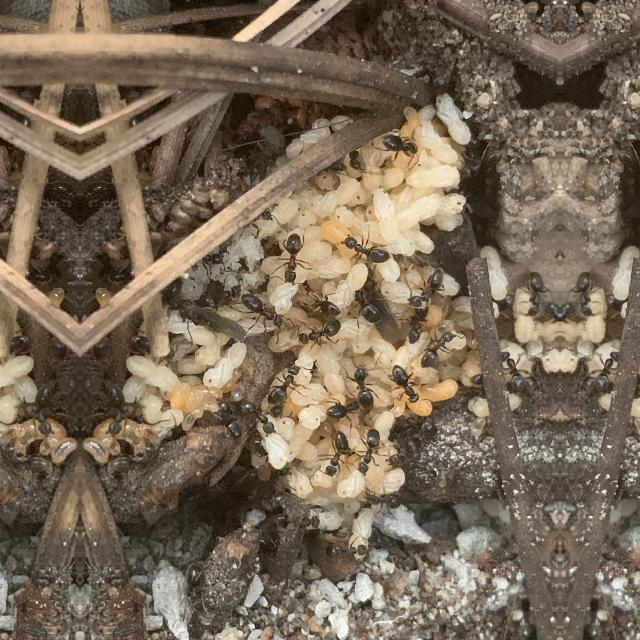Tapinoma: (111, 434, 167, 480), (338, 223, 392, 269), (274, 225, 310, 293), (240, 285, 288, 335), (451, 147, 509, 187), (376, 121, 424, 169), (404, 260, 448, 312), (0, 434, 48, 480), (102, 377, 134, 441), (26, 377, 58, 441), (210, 391, 246, 447), (322, 530, 372, 570), (266, 357, 304, 409), (180, 556, 210, 620), (320, 426, 352, 484), (418, 325, 458, 371), (387, 358, 423, 409), (324, 390, 372, 428), (348, 280, 384, 330), (240, 392, 278, 438), (354, 423, 384, 479), (521, 264, 549, 324), (571, 264, 599, 324), (592, 343, 624, 395), (296, 316, 342, 352), (497, 343, 528, 395), (386, 431, 422, 471), (348, 358, 376, 408), (362, 485, 404, 517), (401, 303, 429, 349), (610, 147, 640, 187), (308, 284, 344, 316), (204, 280, 242, 308), (283, 504, 317, 534), (192, 254, 228, 272)
